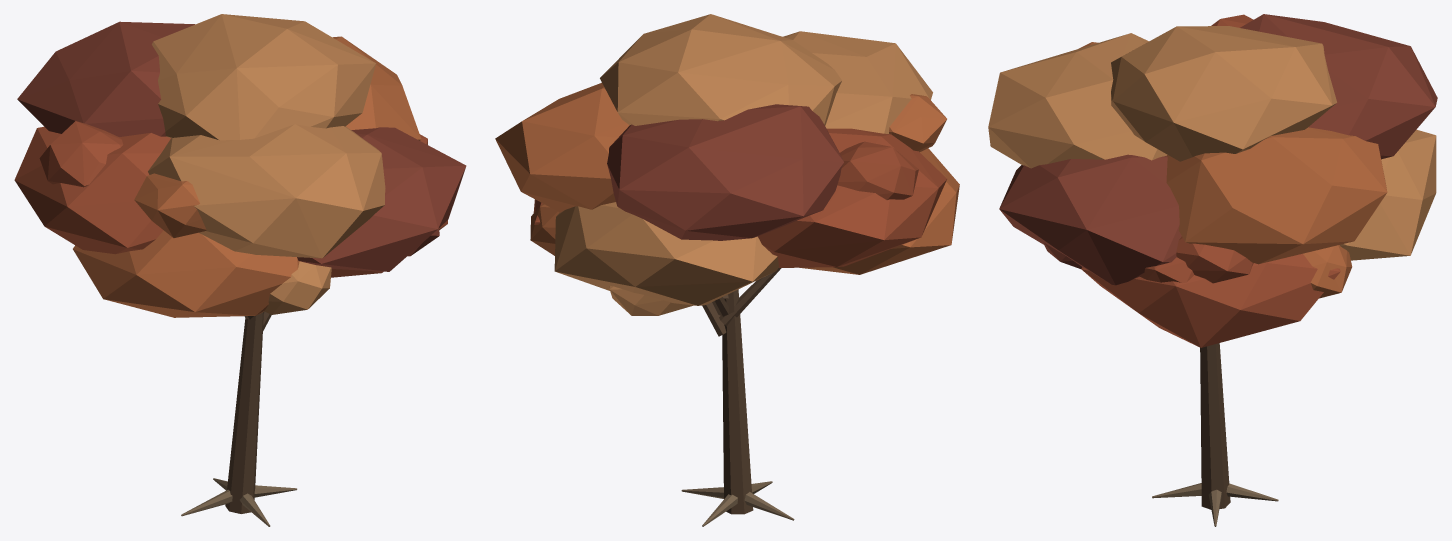
File: copper.glb
3 renders of one model, left to right at view 1: azimuth 30°, elevation 25°; view 2: azimuth 150°, elevation 25°; view 3: azimuth 270°, elevation 25°, orthographic.
Visible parts, largest first — view 1: copper; view 2: copper; view 3: copper.
Boxes of the visible parts, x1,y1,x2,y2 form: copper: (14, 14, 466, 526); copper: (495, 14, 959, 526); copper: (988, 14, 1437, 526).
Size of the model in its own units: 1.44 by 1.66 by 1.42.
